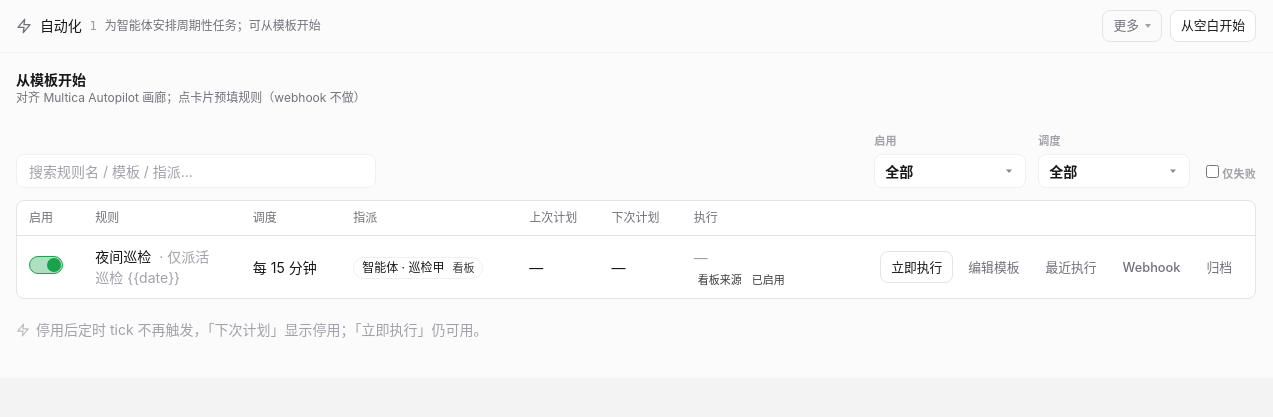
Test case: AutomationPage run-now outcomes › expands this rule's recent runs after non-success skipped
This screenshot has width=1273, height=417.
What coordinates should you click on to do the following:
click the button with test id "automation-run-now-rule-1"
I would click on:
 (917, 267)
Its box is [880, 251, 953, 283].
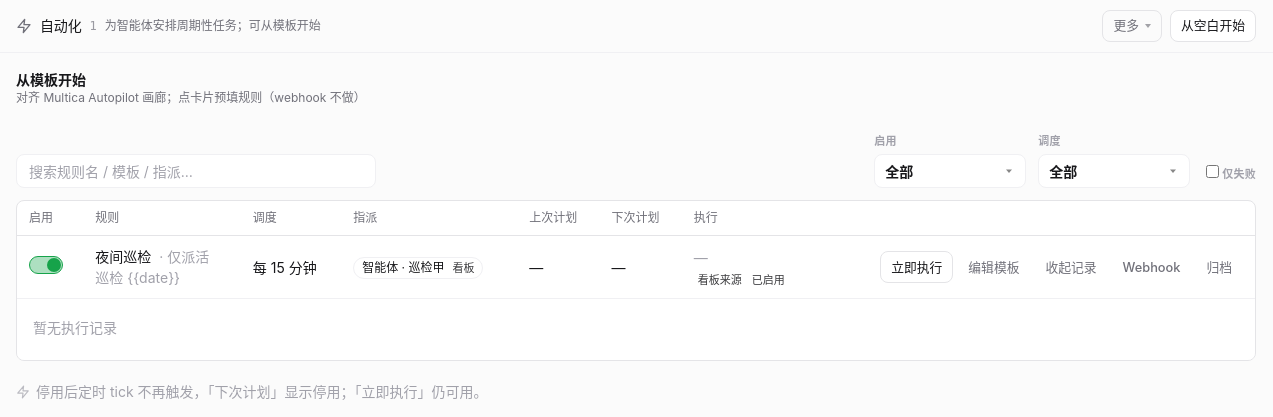
Check: the text "暂无执行记录" is shown, box [33, 319, 117, 336]
